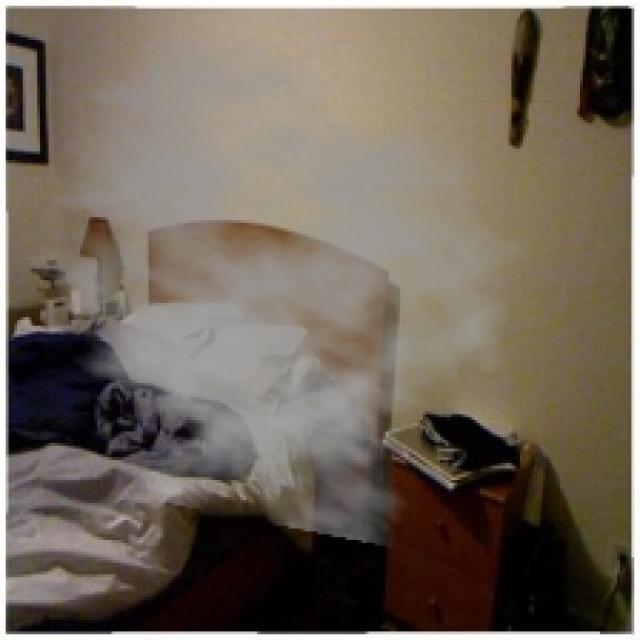Smoke: (0, 28, 535, 549)
